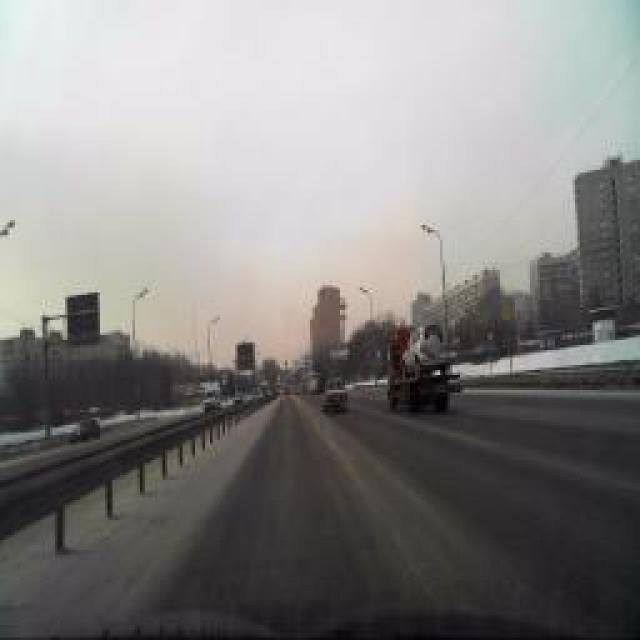sign: (502, 305, 512, 323)
